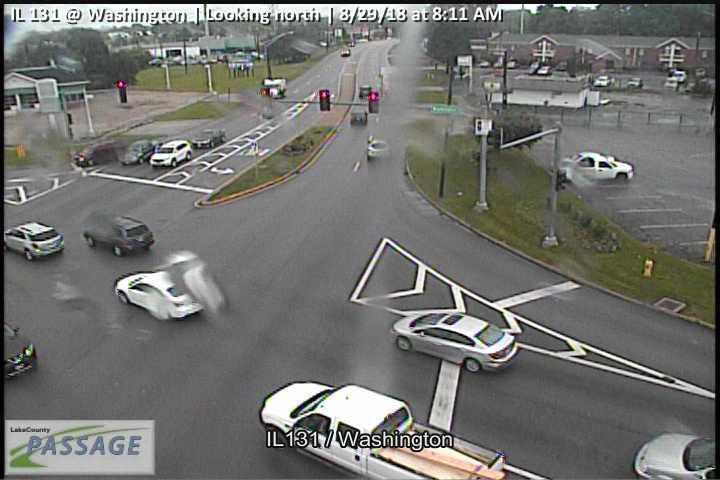Sedan: (390, 308, 520, 373), (116, 269, 200, 321), (81, 211, 153, 257), (3, 221, 68, 261), (561, 150, 634, 185), (149, 139, 192, 170), (73, 140, 120, 167), (119, 139, 155, 166), (191, 126, 226, 149), (368, 136, 391, 160)
Truck: (259, 380, 504, 480)
